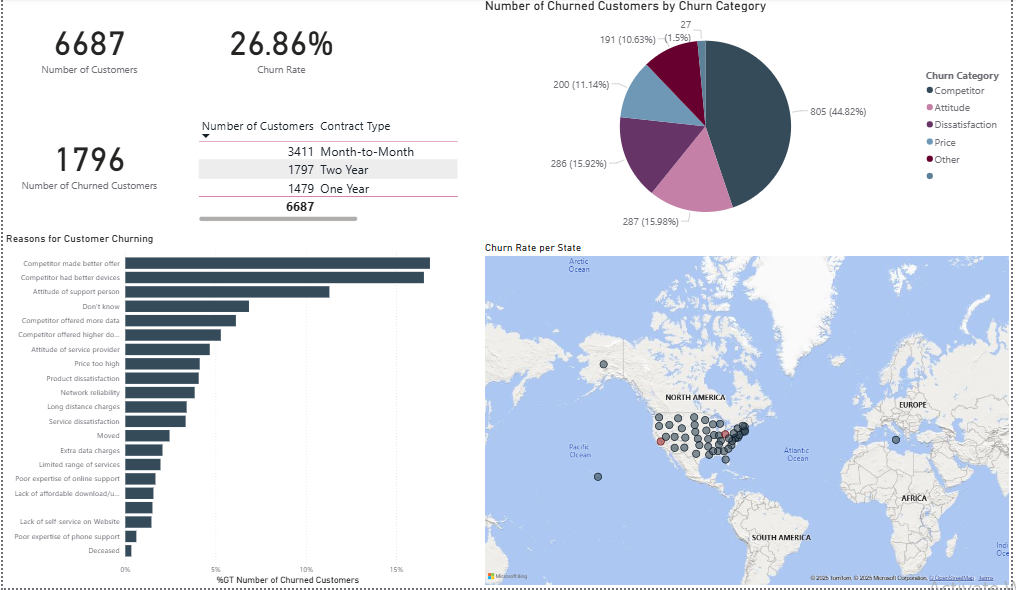

The dashboard page shown, as its layout file describes it:
{"tool":"powerbi","page":{"name":"Overview","canvas":[1640,960],"ordinal":11},"visuals":[{"type":"card","fields":{"Values":["_Calculations.Number of Customers"]},"box":[0,0,280.9,154.7],"z":0},{"type":"card","fields":{"Values":["_Calculations.Number of Churned Customers"]},"box":[0,188.4,280.9,154.7],"z":1000},{"type":"card","fields":{"Values":["_Calculations.Churn Rate"]},"box":[312.9,0,280.9,154.7],"z":2000},{"type":"tableEx","fields":{"Values":["_Calculations.Number of Customers","Databel - Data.Contract Type"]},"box":[312.9,188.4,432,179.6],"z":3000},{"type":"barChart","title":"Reasons for Customer Churning","fields":{"Y":["_Calculations.Number of Churned Customers"],"Category":["Databel - Data.Churn Reason"]},"box":[0,380.4,744.9,579.6],"z":4000},{"type":"map","title":"Churn Rate per State","fields":{"Category":["Databel - Data.State"]},"box":[778.7,394.7,862.2,565.3],"z":5000},{"type":"pieChart","fields":{"Category":["Databel - Data.Churn Category"],"Y":["_Calculations.Number of Churned Customers"]},"box":[778.7,0,862.2,394.7],"z":6000}]}

Visuals, with their boxes in screenshot pixels (x1, y1, x2, y2), scaled from the page's 1640x960 canvas onto the 1016x590 screenshot:
card - _Calculations.Number of Customers: crop(0, 0, 174, 95)
card - _Calculations.Number of Churned Customers: crop(0, 116, 174, 211)
card - _Calculations.Churn Rate: crop(194, 0, 368, 95)
tableEx - _Calculations.Number of Customers x Databel - Data.Contract Type: crop(194, 116, 461, 226)
"Reasons for Customer Churning" barChart: crop(0, 234, 461, 589)
"Churn Rate per State" map: crop(482, 243, 1015, 589)
pieChart - Databel - Data.Churn Category x _Calculations.Number of Churned Customers: crop(482, 0, 1015, 243)
